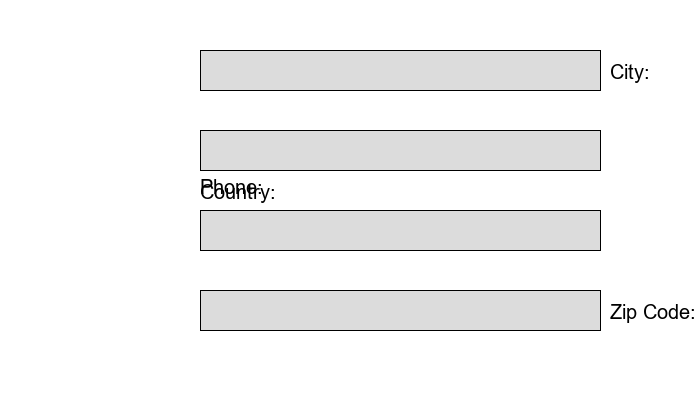Label: (610, 300, 690, 319), (200, 180, 270, 199), (200, 175, 257, 190), (610, 60, 644, 79)
Textbox: (200, 50, 600, 90), (200, 130, 600, 170), (200, 210, 600, 250), (200, 290, 600, 330)
